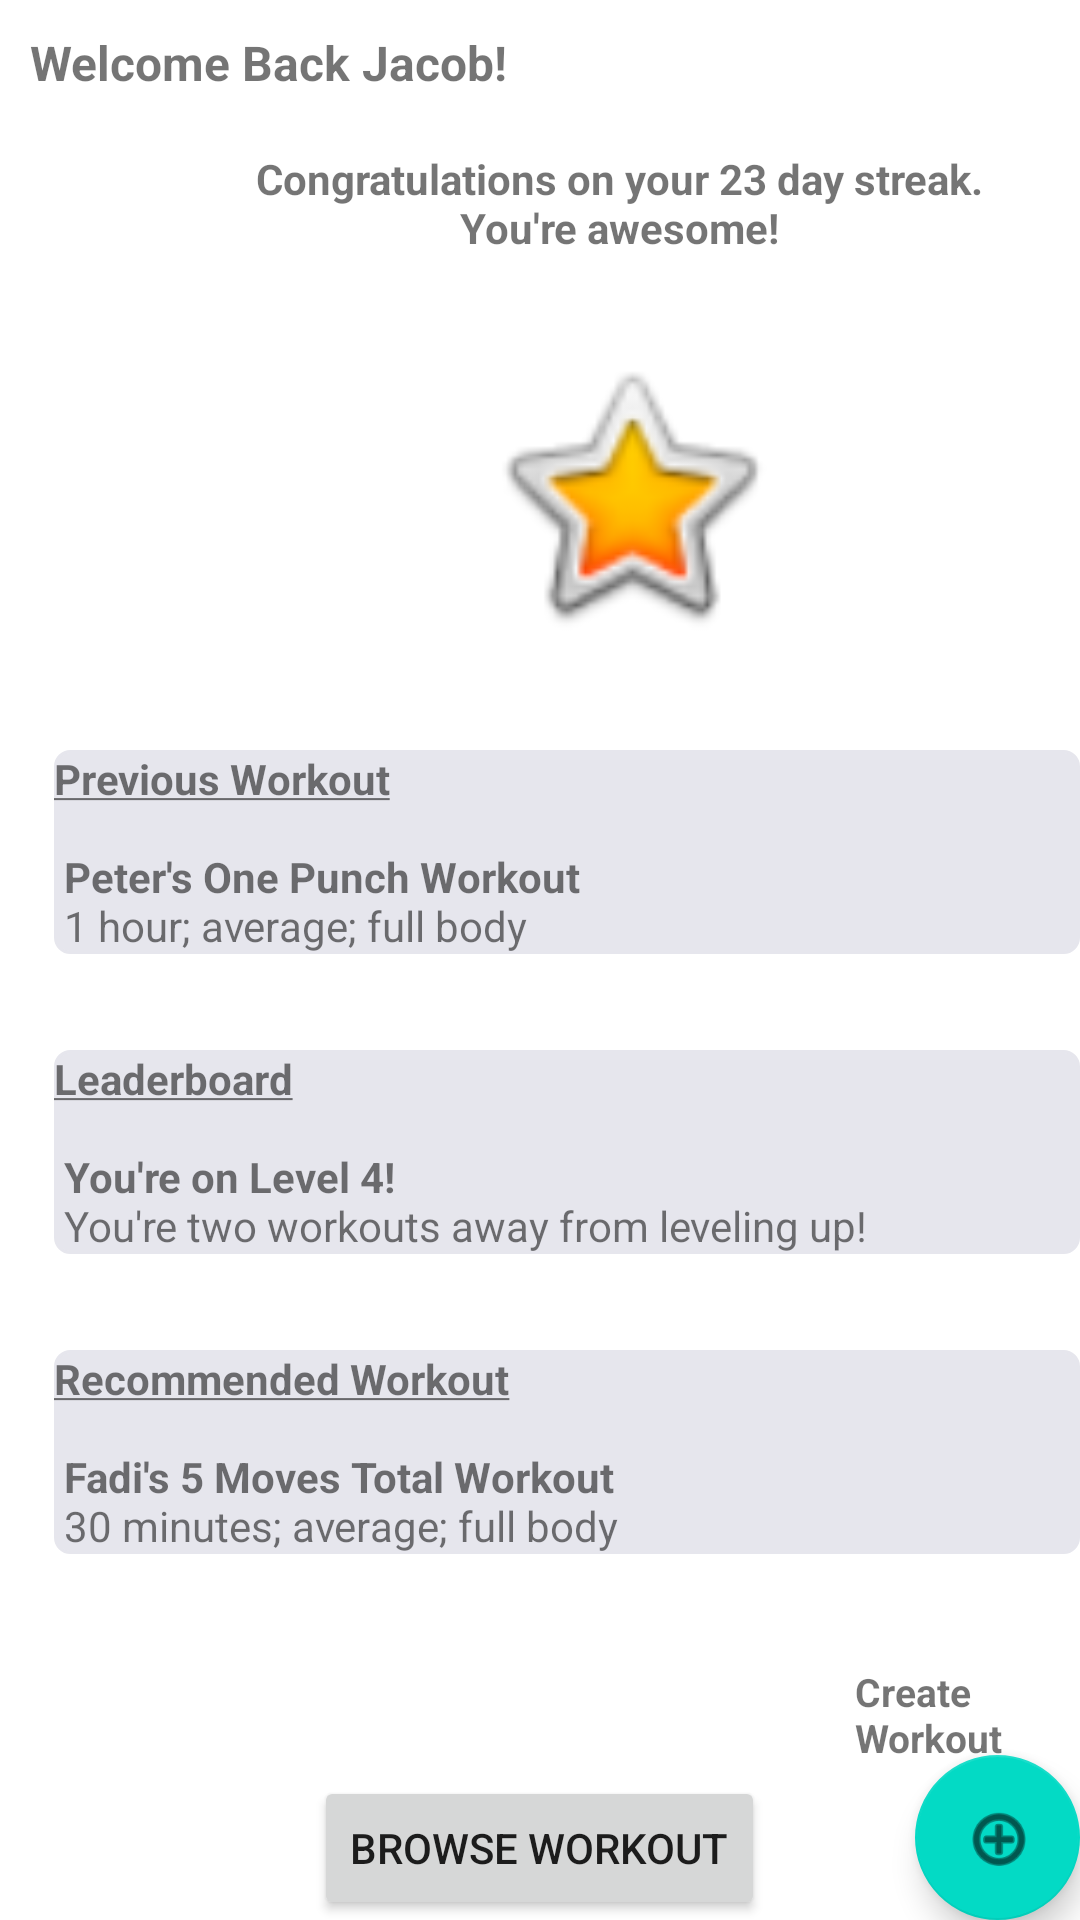

Point at icon controls on the screen. Image size 1080*1920, points as (x=x, y=y).
add: (x=997, y=1837)
star on: (x=632, y=497)
